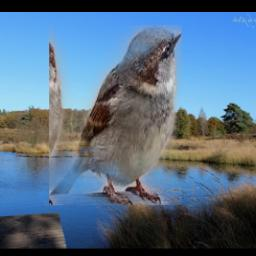Sparrow: (48, 26, 181, 206)
